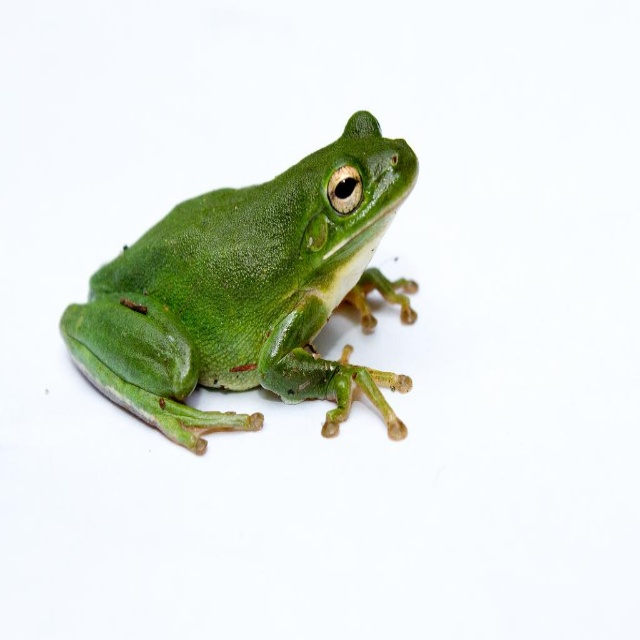Frog: (57, 112, 419, 455)
